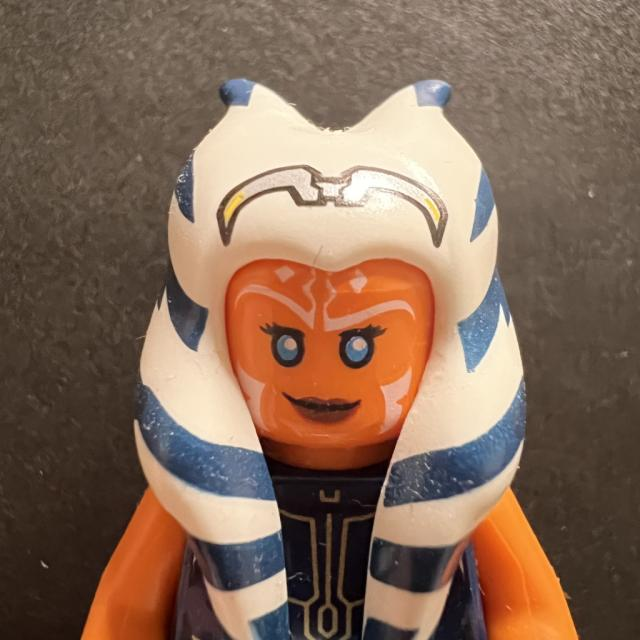alien: (142, 63, 470, 536)
